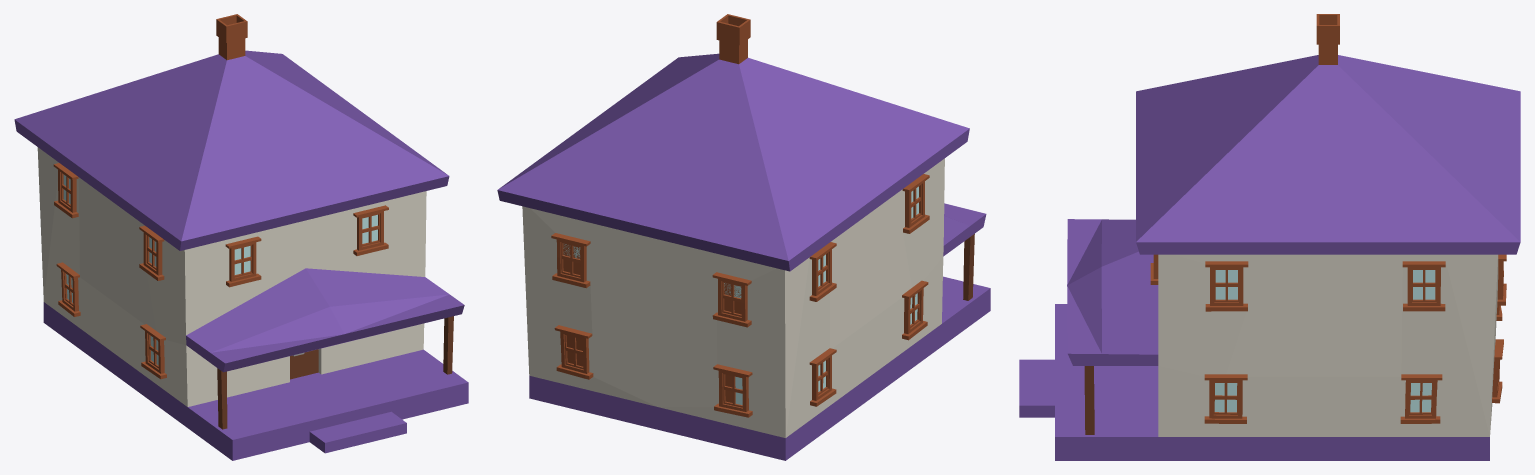
File: House.glb
3 views of the same model, side by side, from view 1: azimuth 30°, elevation 25°; view 2: azimuth 150°, elevation 25°; view 3: azimuth 270°, elevation 25° (orthographic). The views are drawn at different scales.
Visible parts, largest first — view 1: House1_Cube.011; view 2: House1_Cube.011; view 3: House1_Cube.011.
Boxes of the visible parts, x1,y1,x2,y2 form: House1_Cube.011: [14, 14, 468, 460]; House1_Cube.011: [497, 14, 990, 460]; House1_Cube.011: [1019, 14, 1520, 460].
Size of the model in its own units: 1.22 by 1.42 by 1.72.
1 material, 1 textured.
